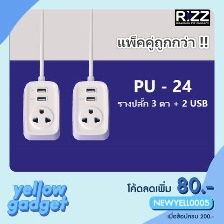three_eye_plug: (69, 79, 113, 143), (20, 78, 61, 142)
